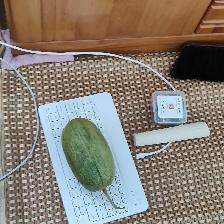gua: (61, 120, 114, 189)
